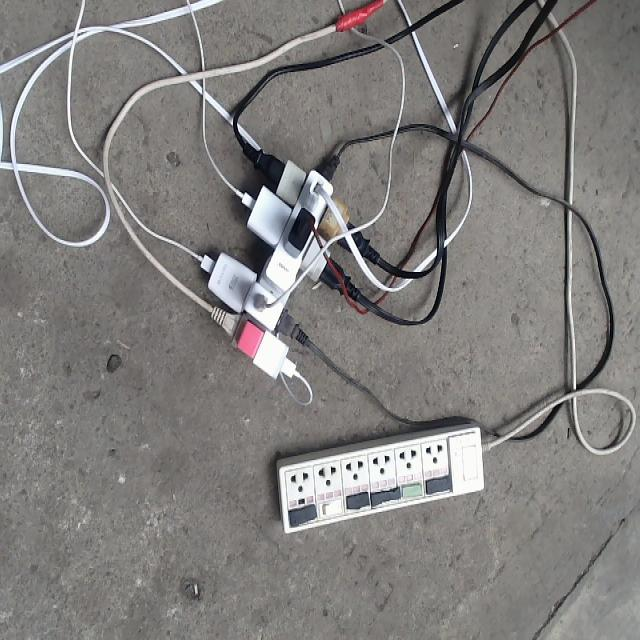-: (201, 142, 356, 382)
